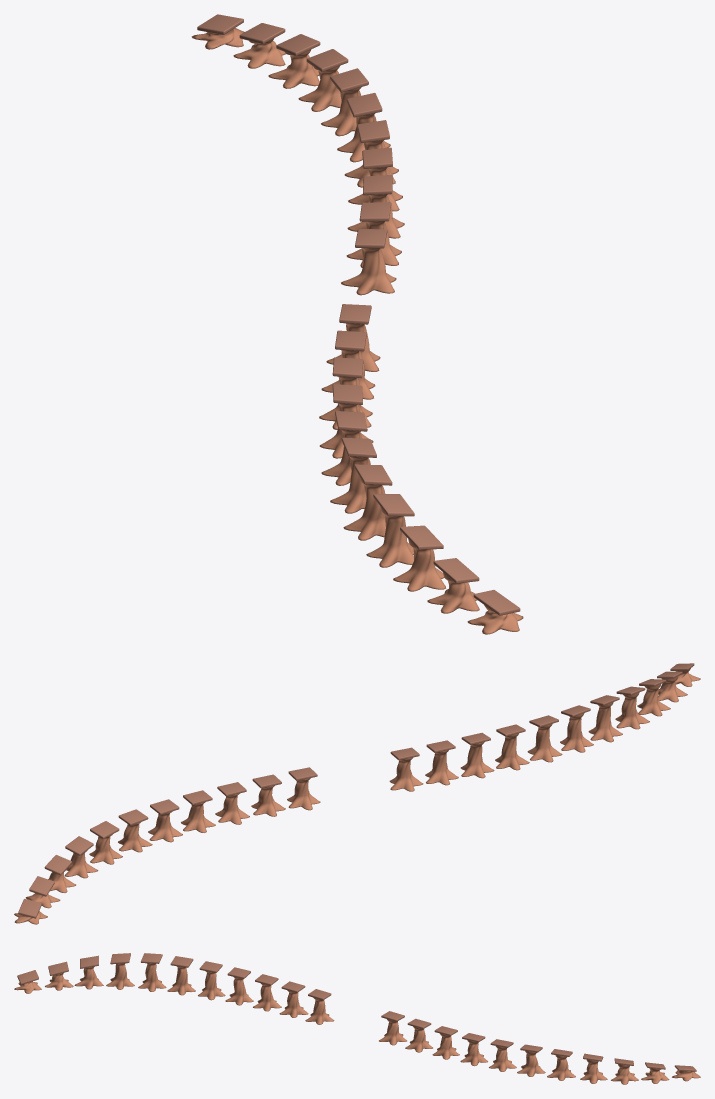
File: sc02_supports_trunk_fixture.glb
3 views of the same model, one above another, from view 1: azimuth 30°, elevation 25°; view 2: azimuth 150°, elevation 25°; view 3: azimuth 270°, elevation 25° (orthographic). The views are drawn at different scales.
Parts seen in each view (by area): view 1: SC02_TRUNK_10_shaft, SC02_TRUNK_18_shaft, SC02_TRUNK_19_shaft, SC02_TRUNK_17_shaft, SC02_TRUNK_02_shaft, SC02_TRUNK_20_shaft, SC02_TRUNK_03_shaft, SC02_TRUNK_16_shaft; view 2: SC02_TRUNK_17_shaft, SC02_TRUNK_16_shaft, SC02_TRUNK_15_shaft, SC02_TRUNK_18_shaft, SC02_TRUNK_14_shaft, SC02_TRUNK_13_shaft, SC02_TRUNK_12_shaft, SC02_TRUNK_11_shaft, SC02_TRUNK_10_shaft, SC02_TRUNK_19_shaft, SC02_TRUNK_09_shaft, SC02_TRUNK_07_shaft (+6 smaller); view 3: SC02_TRUNK_17_shaft, SC02_TRUNK_15_shaft, SC02_TRUNK_16_shaft, SC02_TRUNK_13_shaft, SC02_TRUNK_14_shaft, SC02_TRUNK_18_shaft, SC02_TRUNK_12_shaft, SC02_TRUNK_11_shaft, SC02_TRUNK_05_shaft, SC02_TRUNK_04_shaft, SC02_TRUNK_09_shaft, SC02_TRUNK_06_shaft (+8 smaller).
Boxes of the visible parts, bbox=[...] form: SC02_TRUNK_10_shaft: bbox=[341, 248, 396, 295]; SC02_TRUNK_18_shaft: bbox=[366, 506, 413, 567]; SC02_TRUNK_19_shaft: bbox=[393, 539, 445, 591]; SC02_TRUNK_17_shaft: bbox=[343, 477, 385, 540]; SC02_TRUNK_02_shaft: bbox=[268, 49, 319, 88]; SC02_TRUNK_20_shaft: bbox=[427, 572, 479, 613]; SC02_TRUNK_03_shaft: bbox=[298, 66, 341, 111]; SC02_TRUNK_16_shaft: bbox=[330, 451, 370, 513]; SC02_TRUNK_17_shaft: bbox=[588, 702, 622, 742]; SC02_TRUNK_16_shaft: bbox=[560, 713, 593, 752]; SC02_TRUNK_15_shaft: bbox=[527, 723, 562, 762]; SC02_TRUNK_18_shaft: bbox=[615, 692, 649, 729]; SC02_TRUNK_14_shaft: bbox=[495, 733, 529, 770]; SC02_TRUNK_13_shaft: bbox=[460, 742, 494, 778]; SC02_TRUNK_12_shaft: bbox=[425, 750, 458, 785]; SC02_TRUNK_11_shaft: bbox=[389, 757, 423, 791]; SC02_TRUNK_10_shaft: bbox=[287, 778, 320, 810]; SC02_TRUNK_19_shaft: bbox=[637, 684, 670, 716]; SC02_TRUNK_09_shaft: bbox=[251, 785, 285, 816]; SC02_TRUNK_07_shaft: bbox=[181, 802, 215, 832]; SC02_TRUNK_17_shaft: bbox=[138, 963, 166, 991]; SC02_TRUNK_15_shaft: bbox=[198, 971, 225, 1000]; SC02_TRUNK_16_shaft: bbox=[167, 966, 195, 995]; SC02_TRUNK_13_shaft: bbox=[253, 983, 281, 1011]; SC02_TRUNK_14_shaft: bbox=[225, 976, 253, 1005]; SC02_TRUNK_18_shaft: bbox=[106, 963, 134, 989]; SC02_TRUNK_12_shaft: bbox=[279, 990, 308, 1017]; SC02_TRUNK_11_shaft: bbox=[305, 997, 334, 1024]; SC02_TRUNK_05_shaft: bbox=[517, 1051, 545, 1076]; SC02_TRUNK_04_shaft: bbox=[547, 1055, 575, 1080]; SC02_TRUNK_09_shaft: bbox=[405, 1026, 432, 1052]; SC02_TRUNK_06_shaft: bbox=[489, 1046, 516, 1071].
Size of the model in its own units: 100 by 13.09 by 260.
